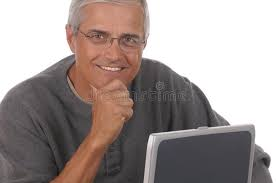white_male: (84, 11, 152, 86)
